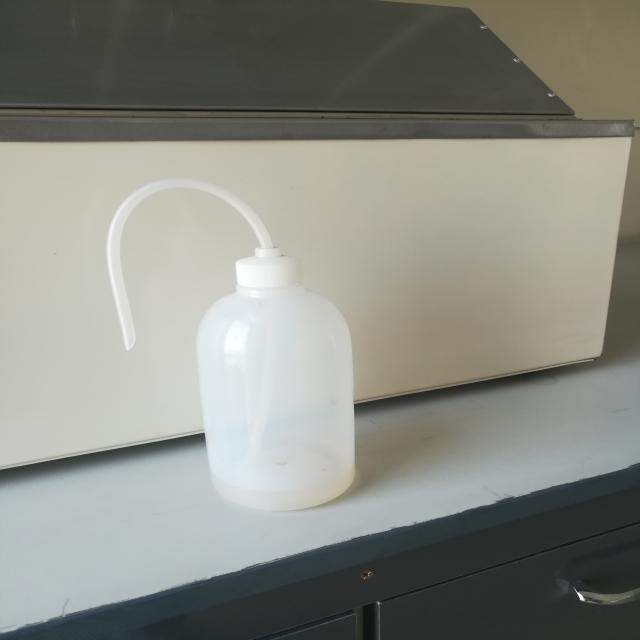Wash_Bottle: (74, 142, 402, 533)
